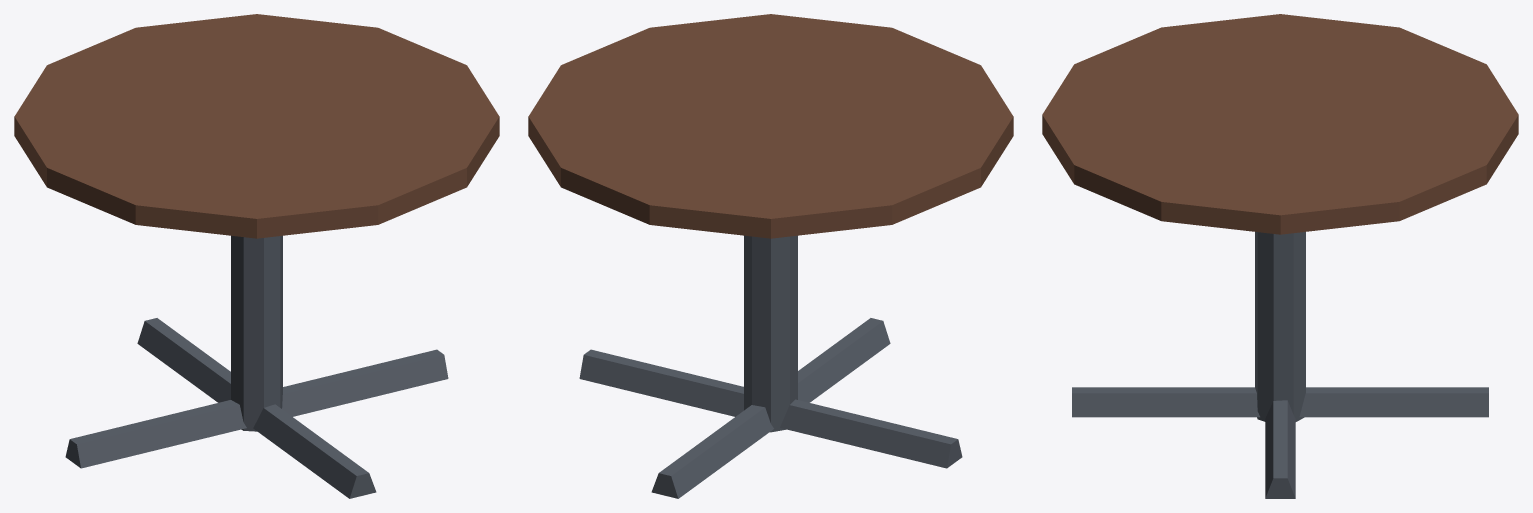
File: CafeTableA.fbx
The picture shows the model from 3 angles, left to right: view 1: azimuth 30°, elevation 25°; view 2: azimuth 150°, elevation 25°; view 3: azimuth 270°, elevation 25°; orthographic projection.
Visible parts, largest first — view 1: CafeTableA; view 2: CafeTableA; view 3: CafeTableA.
Part boxes in pixels (x1=…): CafeTableA: x1=14, y1=14, x2=499, y2=498; CafeTableA: x1=528, y1=14, x2=1013, y2=498; CafeTableA: x1=1042, y1=14, x2=1518, y2=498.
Bounding box in the file's own units: 103 × 71.66 × 103.
